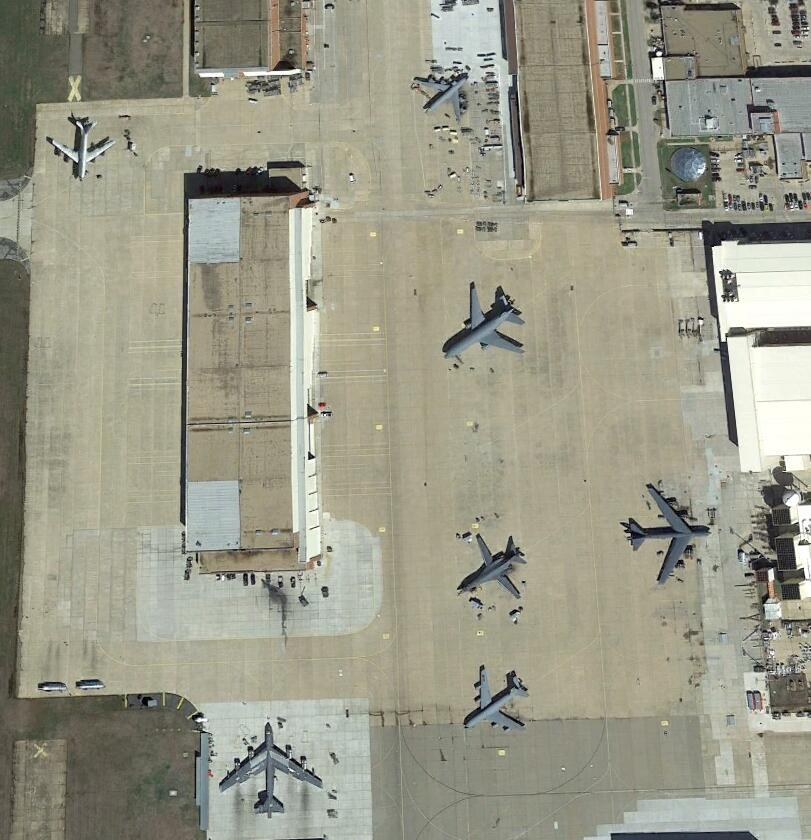A10: (456, 532, 530, 599)
A11: (49, 122, 114, 180)
A14: (462, 665, 532, 735)
A18: (443, 284, 532, 363)
A8: (218, 720, 323, 816), (628, 485, 714, 585)
